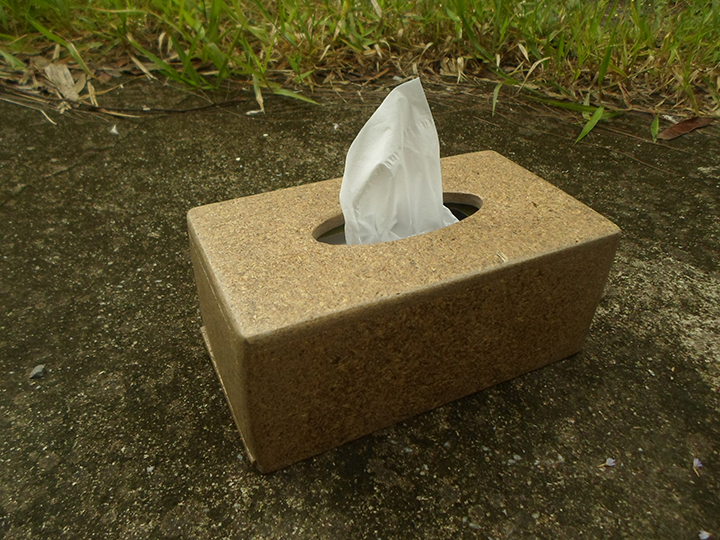Tissue: (336, 75, 462, 249)
